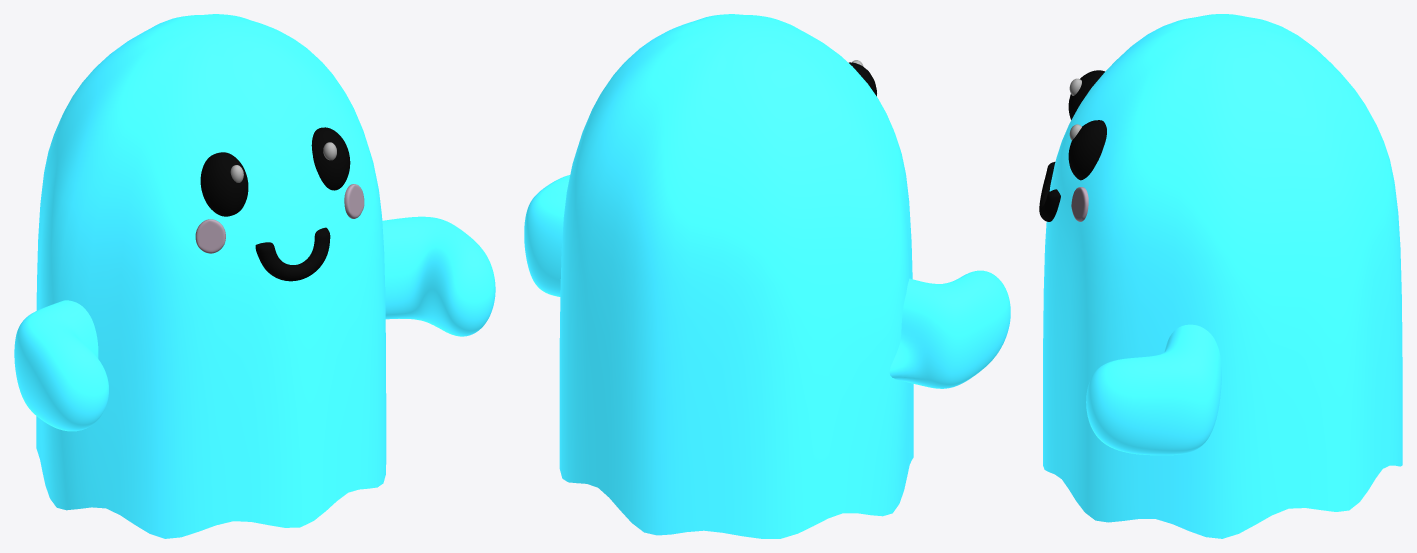
Rendered from ghost.glb.
The picture shows the model from 3 angles, left to right: view 1: azimuth 30°, elevation 25°; view 2: azimuth 150°, elevation 25°; view 3: azimuth 270°, elevation 25°; orthographic projection.
Visible parts, largest first — view 1: ghost3; view 2: ghost3; view 3: ghost3.
Part boxes in pixels (bbox=[...]): ghost3: bbox=[14, 14, 495, 538]; ghost3: bbox=[524, 14, 1010, 538]; ghost3: bbox=[1039, 14, 1402, 538].
Bounding box in the file's own units: 0.9264 × 0.8769 × 0.6454.
Materials: 1 (1 with a texture image).
